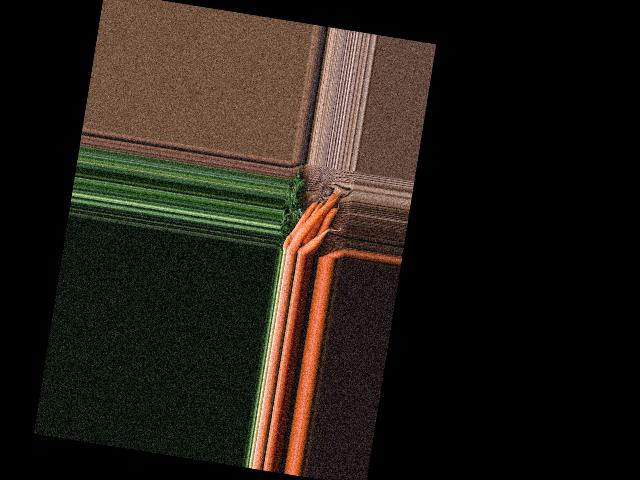carrot: (298, 226, 329, 256)
